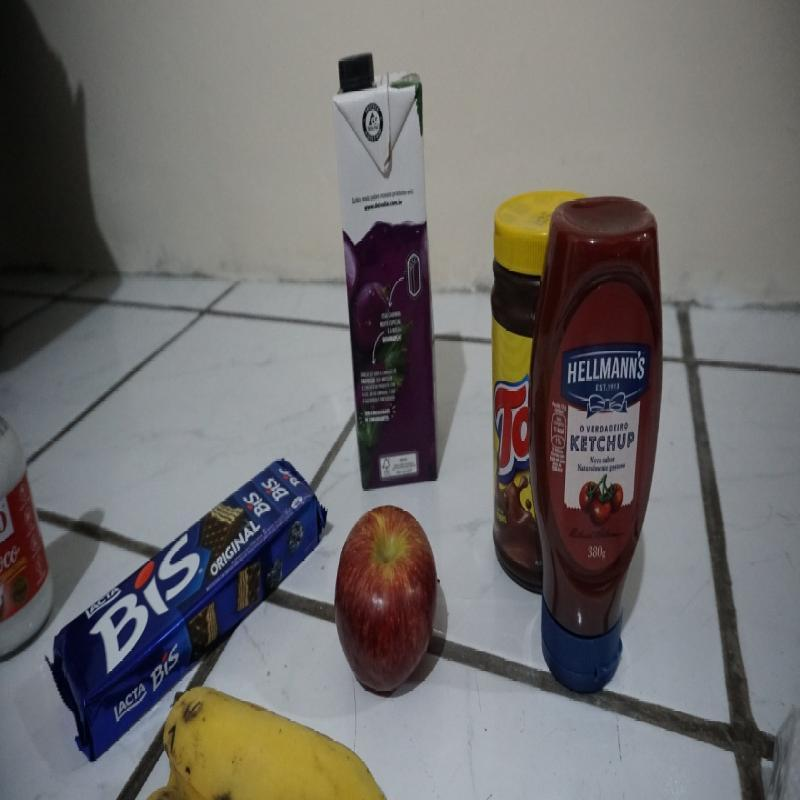Apple: (335, 505, 440, 696)
Banana: (143, 684, 429, 800)
Chocolate Powder: (487, 190, 551, 604)
Coconut Milk: (0, 405, 54, 667)
Ketchup: (527, 193, 664, 698)
